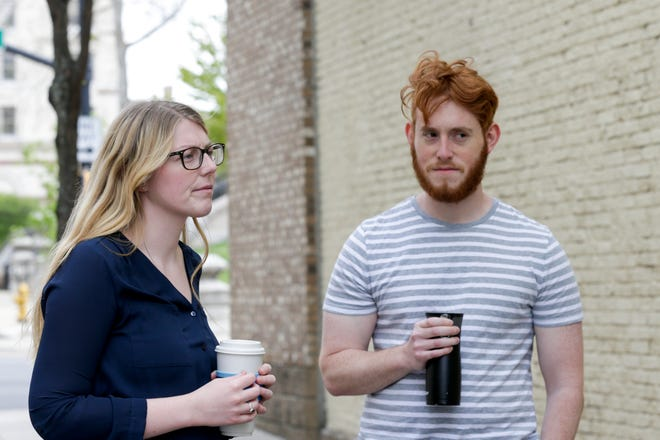without_mask: (418, 121, 482, 189), (174, 139, 222, 214)
